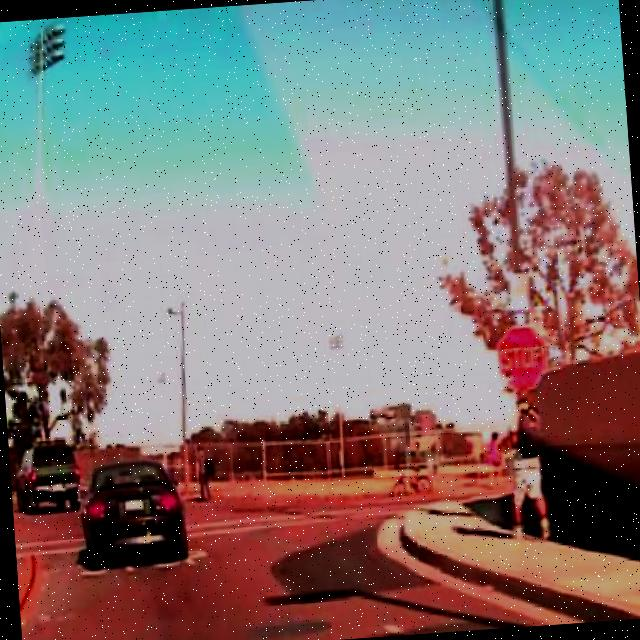Stop: (494, 322, 549, 390)
